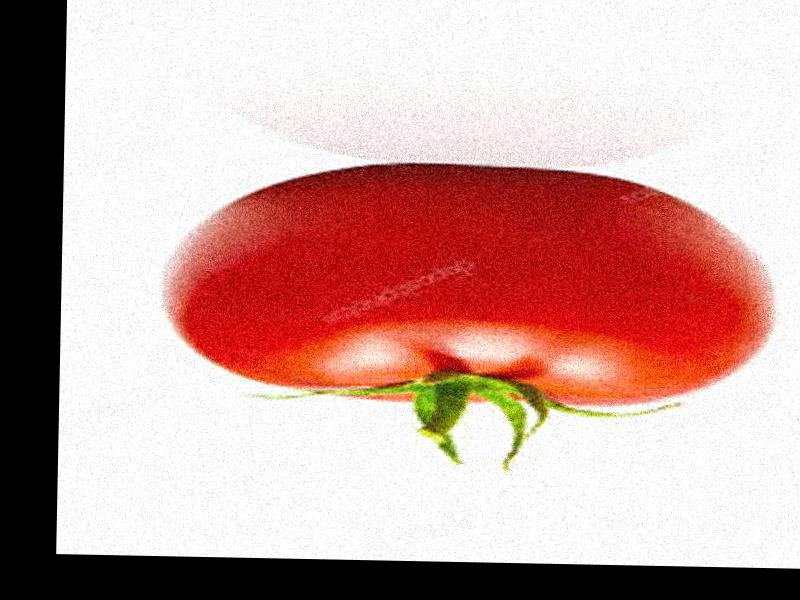Tomato: (159, 159, 780, 409)
